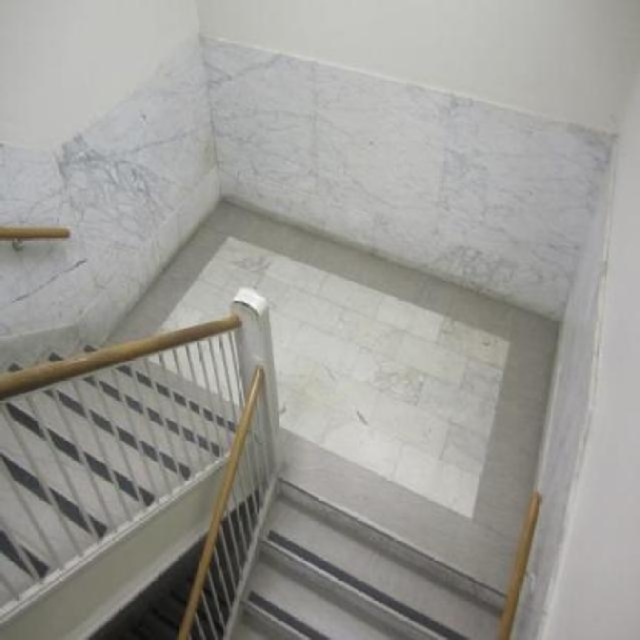stair: (0, 296, 236, 572), (210, 443, 525, 640)
